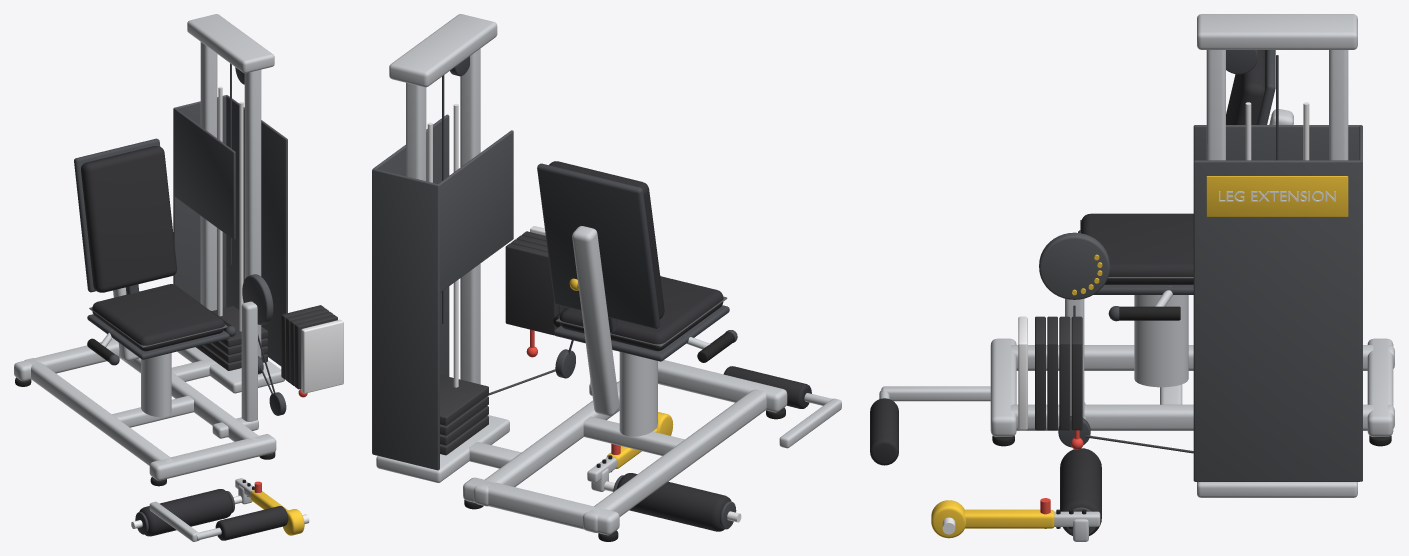
File: LegExtension_Premium.fbx
3 views of the same model, side by side, from view 1: azimuth 30°, elevation 25°; view 2: azimuth 150°, elevation 25°; view 3: azimuth 270°, elevation 25° (orthographic). The views are drawn at different scales.
Parts seen in each view (by area): view 1: Backrest, Shroud_Side_Out, Shroud_Side_In, Seat, Tower_Post_1, Shroud_Back, Base_Rail_L, Tower_Post_2, Head_Plate, Tower_Top, Base_Cross_Front, Ankle_Pad (+21 smaller); view 2: Shroud_Back, Backrest_Shell, Shroud_Side_In, Base_Rail_L, Back_Post, Tower_Post_1, Seat, Tower_Top, Plate_1, Base_Cross_Back, Base_Rail_R, Seat_Column (+13 smaller); view 3: Shroud_Side_Out, Seat, Tower_Top, Placard, Seat_Column, Shroud_Side_In, ROM_Dial_Housing, Base_Rail_R, Tower_Base, Base_Cross_Front, Ankle_Pad, Base_Cross_Back (+20 smaller).
Part boxes in pixels (x1,y1,x2,y2): Backrest: (81,146,176,292); Shroud_Side_Out: (226,95,287,366); Shroud_Side_In: (174,108,235,239); Seat: (92,284,224,351); Tower_Post_1: (244,69,261,374); Shroud_Back: (173,95,227,309); Base_Rail_L: (24,358,173,465); Tower_Post_2: (200,42,217,310); Head_Plate: (301,319,343,393); Tower_Top: (187,14,274,73); Base_Cross_Front: (149,434,276,480); Ankle_Pad: (139,489,232,536); Shroud_Back: (372,168,439,470); Backrest_Shell: (537,163,660,328); Shroud_Side_In: (438,130,513,292); Base_Rail_L: (583,389,766,532); Back_Post: (572,226,619,415); Tower_Post_1: (460,48,480,384); Seat: (559,276,723,351); Tower_Top: (389,14,497,87); Plate_1: (505,243,558,335); Base_Cross_Back: (463,477,619,535); Base_Rail_R: (473,381,619,506); Seat_Column: (619,352,657,436); Shroud_Side_Out: (1193,160,1360,481); Seat: (1081,213,1193,284); Tower_Top: (1197,14,1357,49); Placard: (1206,176,1348,216); Seat_Column: (1134,295,1188,387); Shroud_Side_In: (1193,125,1359,160); ROM_Dial_Housing: (1039,232,1109,299); Base_Rail_R: (1010,404,1394,430); Tower_Base: (1197,482,1357,497); Base_Cross_Front: (990,338,1016,436); Ankle_Pad: (1060,448,1101,535); Base_Cross_Back: (1367,338,1393,436).
Bounding box in the file's own units: 1.04 × 1.94 × 1.63.
